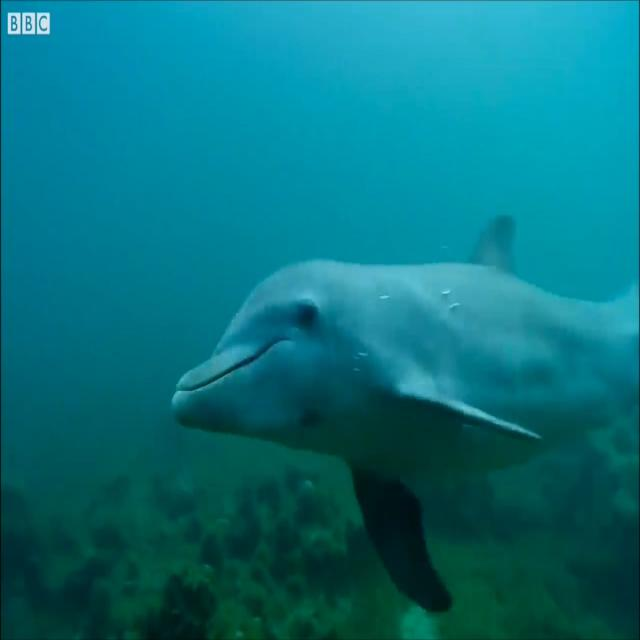Dolphin: (169, 219, 640, 613)
